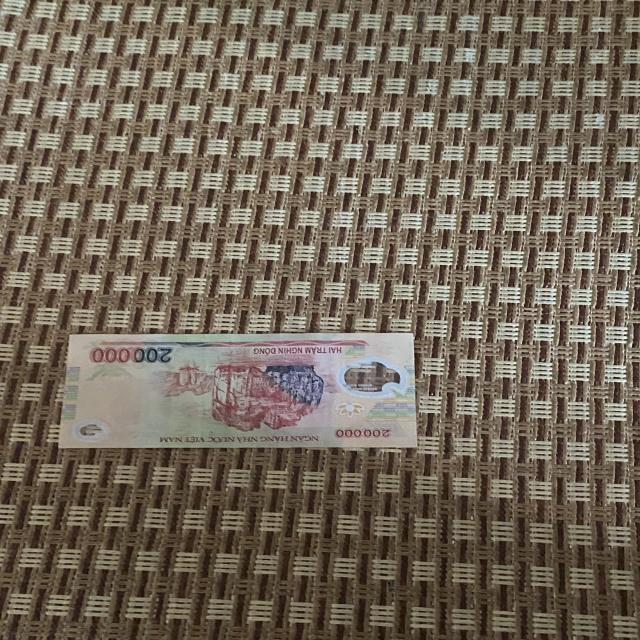200 000 VND: (56, 331, 420, 451)
